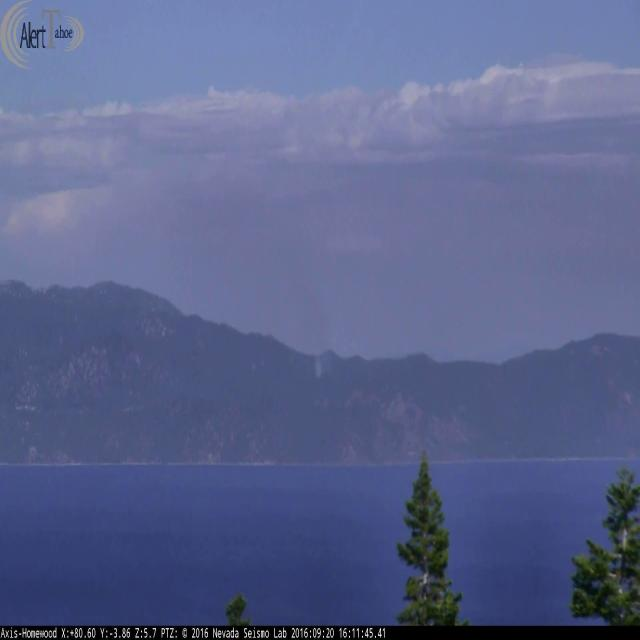smoke: (313, 338, 336, 386)
